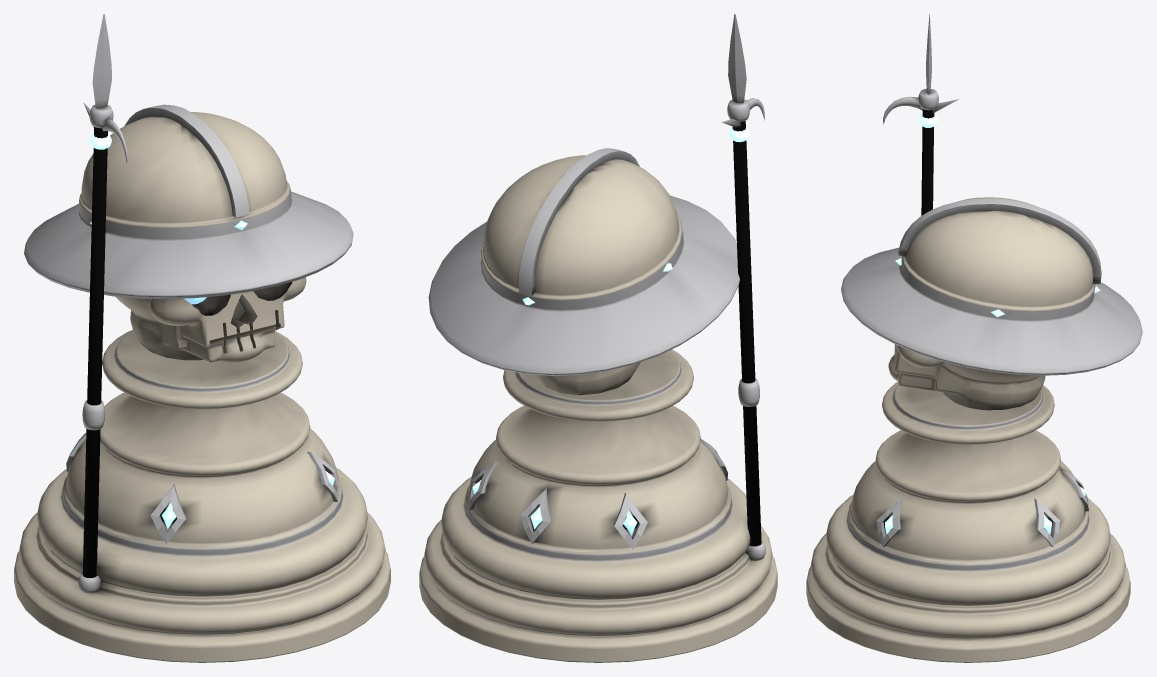
Rendered from pikeman.glb.
3 renders of one model, left to right at view 1: azimuth 30°, elevation 25°; view 2: azimuth 150°, elevation 25°; view 3: azimuth 270°, elevation 25°, orthographic. The views are drawn at different scales.
Visible parts, largest first — view 1: pikeman; view 2: pikeman; view 3: pikeman.
Boxes of the visible parts, <box> form: pikeman: <box>14,14,390,662</box>; pikeman: <box>419,14,777,662</box>; pikeman: <box>806,14,1142,662</box>.
Size of the model in its own units: 0.72 by 1.3 by 0.7471.
